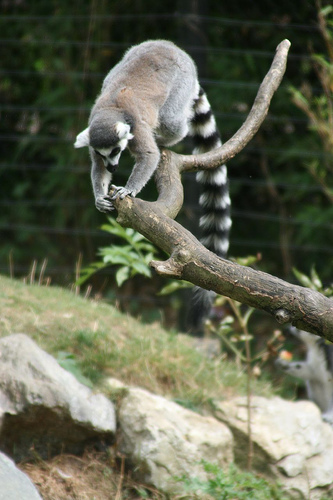cat: (73, 38, 232, 305)
